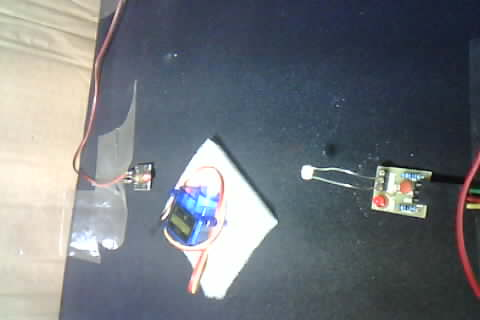motor: (153, 135, 262, 296)
